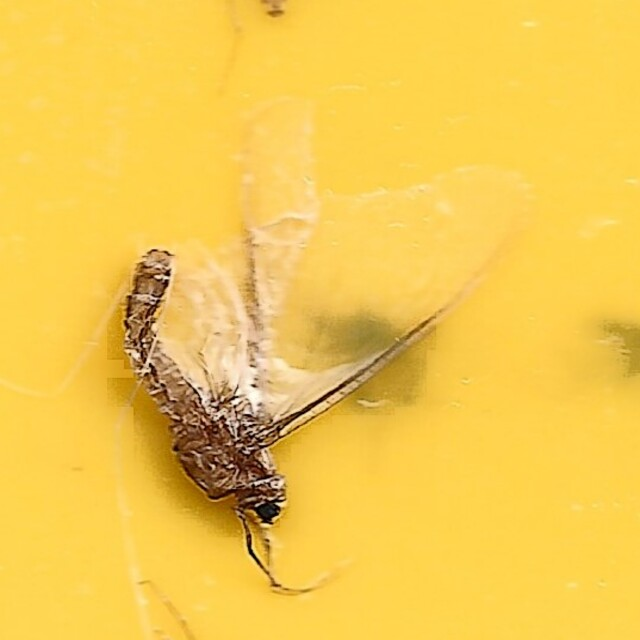Ephemeroptera: (119, 107, 521, 533)
